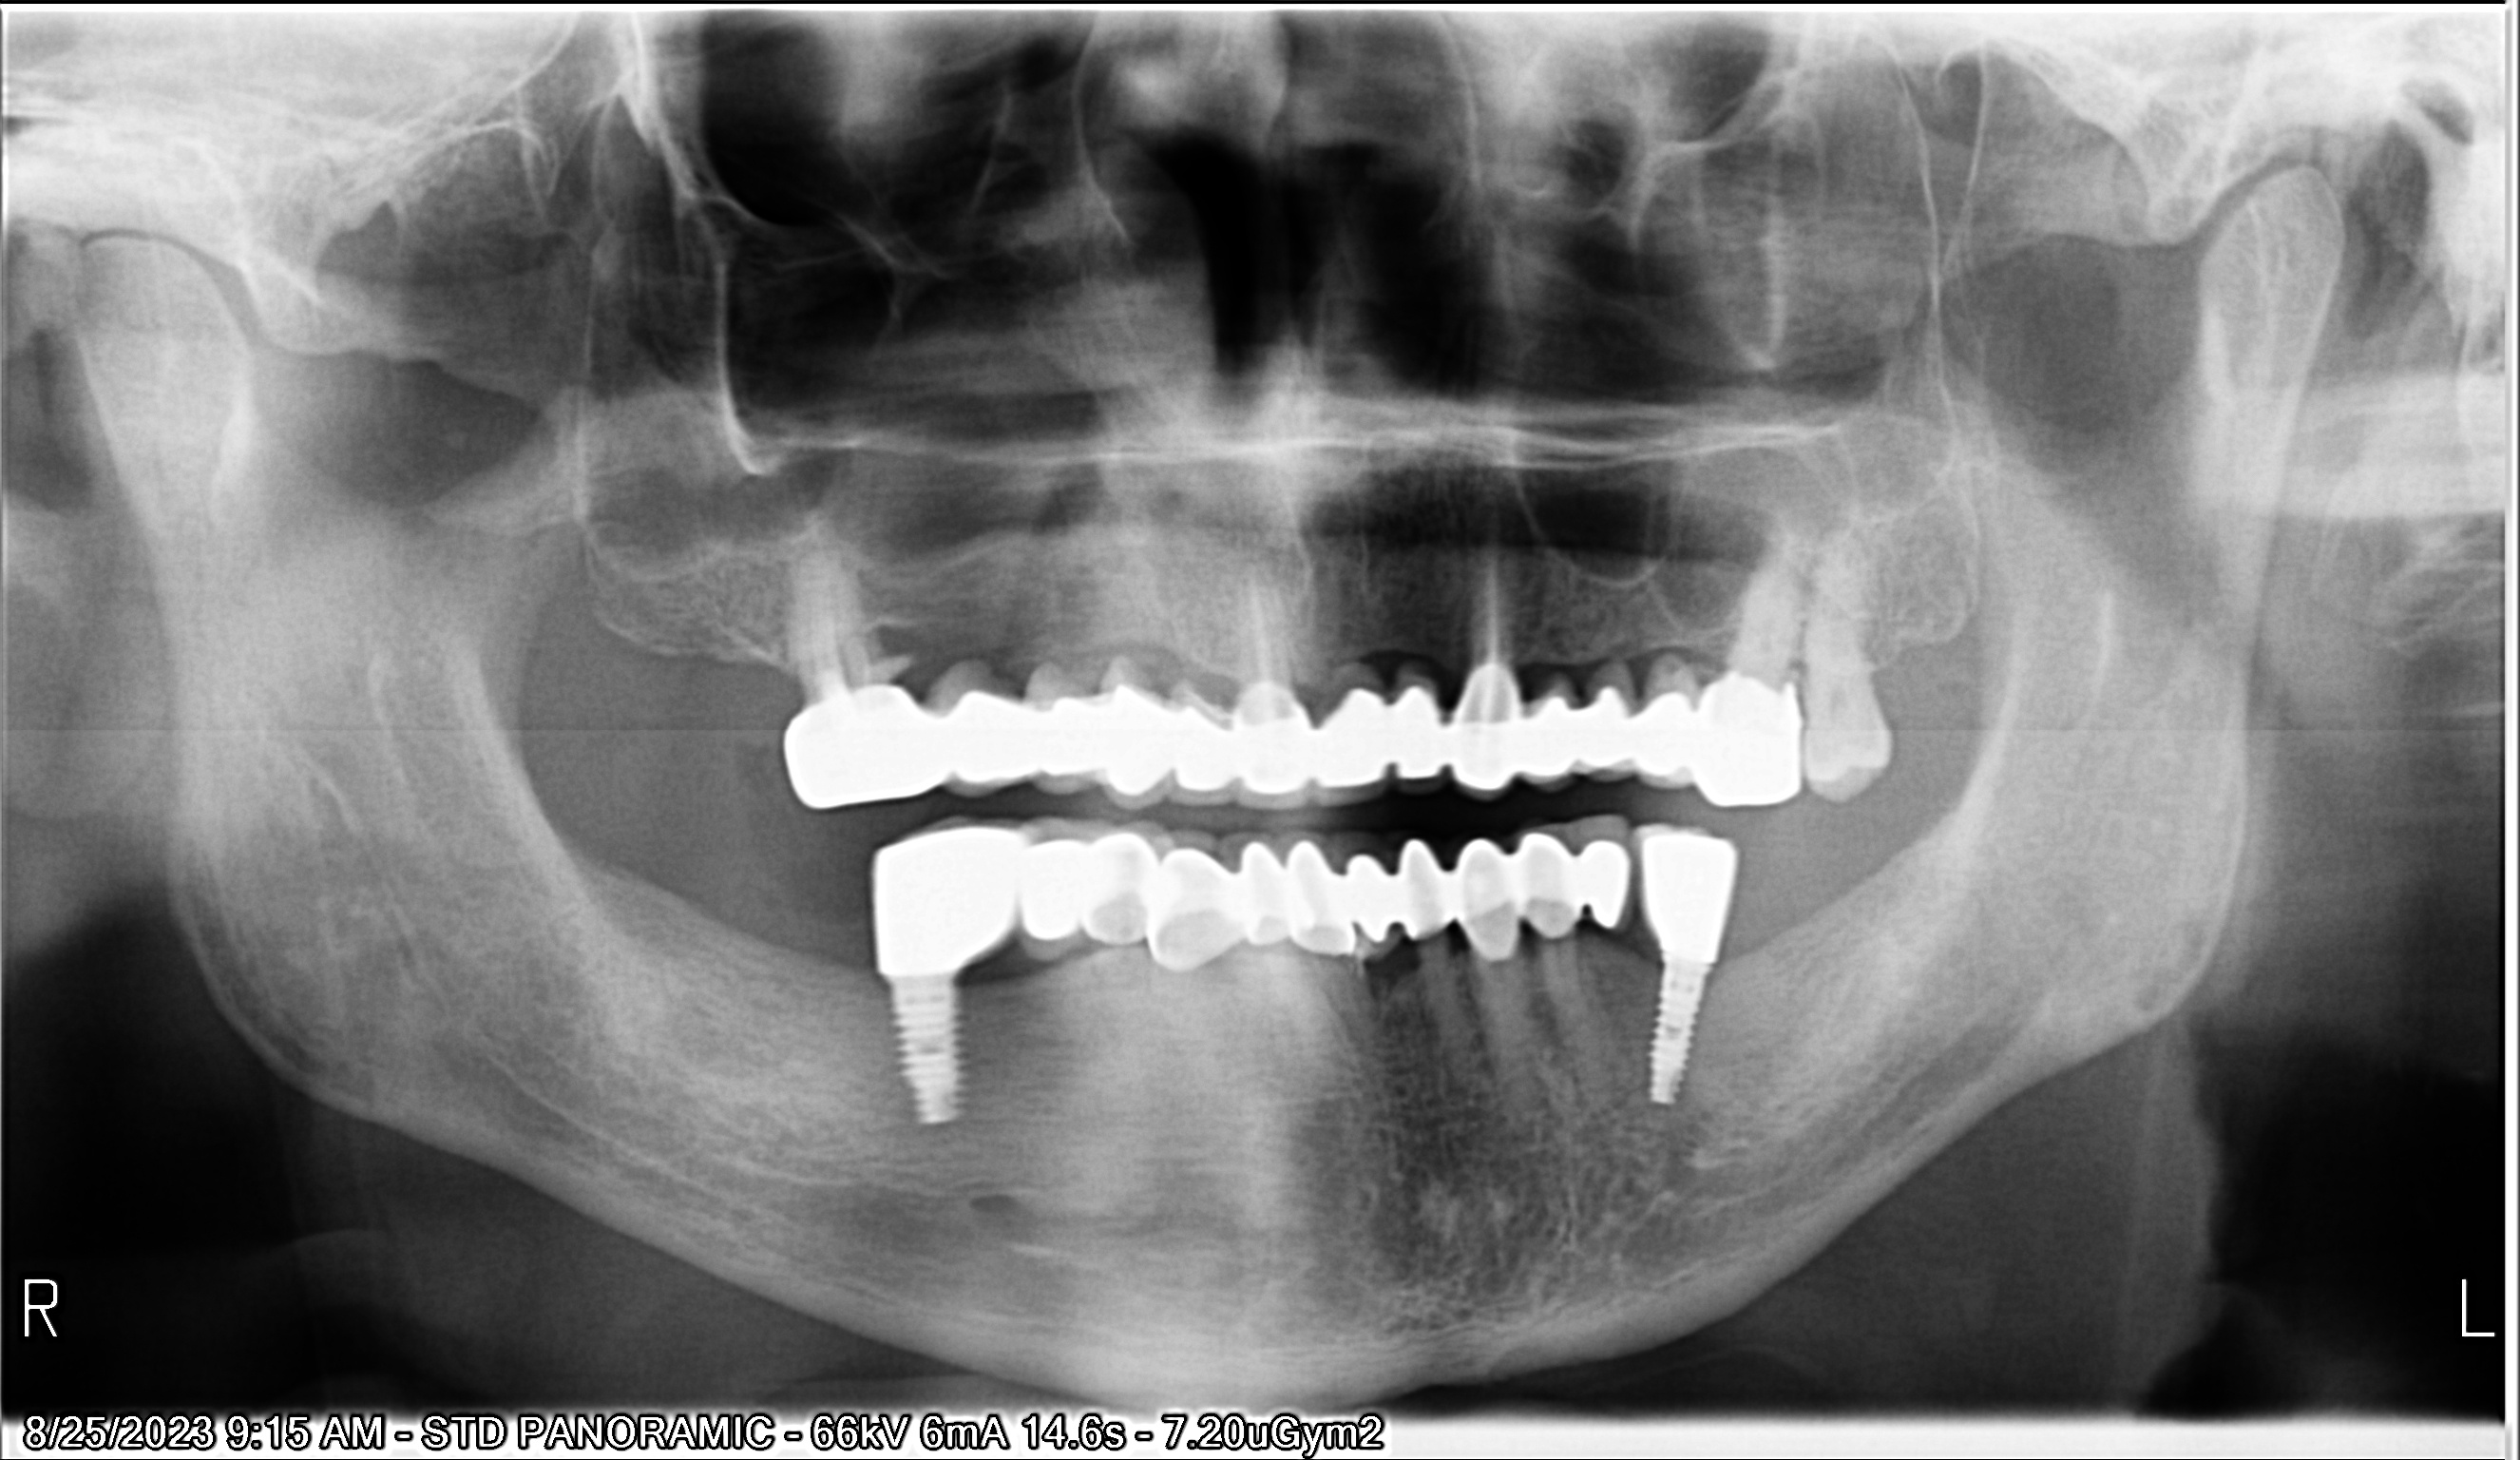END: (1455, 497, 1528, 671), (801, 560, 863, 700), (1230, 549, 1271, 687)
IMP: (870, 965, 978, 1154), (1615, 958, 1742, 1112)
PRR: (766, 638, 1836, 826), (1006, 812, 1641, 979), (835, 806, 1028, 977), (1615, 812, 1778, 977)
